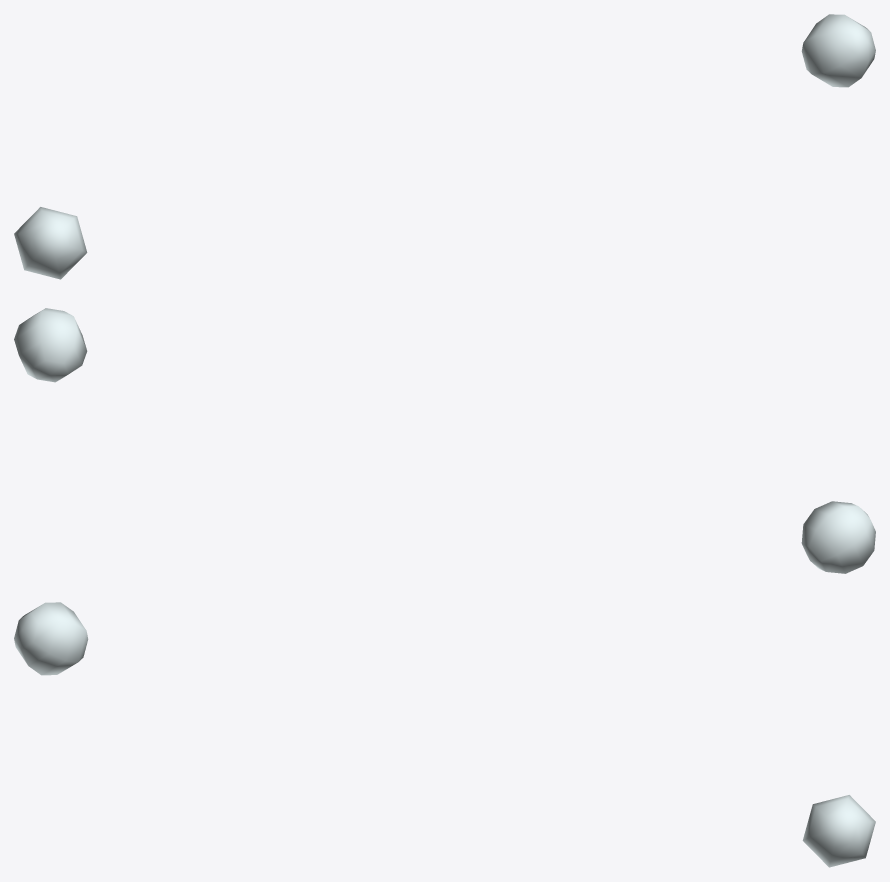
Rendered from Earring_1.fbx.
The picture shows the model from 3 angles, top to bottom: view 1: azimuth 30°, elevation 25°; view 2: azimuth 150°, elevation 25°; view 3: azimuth 330°, elevation 25°; orthographic projection.
Parts seen in each view (by area): view 1: Earring_1; view 2: Earring_1; view 3: Earring_1.
Boxes of the visible parts, bbox=[...] form: Earring_1: bbox=[14, 14, 875, 279]; Earring_1: bbox=[14, 308, 875, 573]; Earring_1: bbox=[14, 602, 875, 867].
Bounding box in the file's own units: 55.2 × 4.16 × 4.08.
